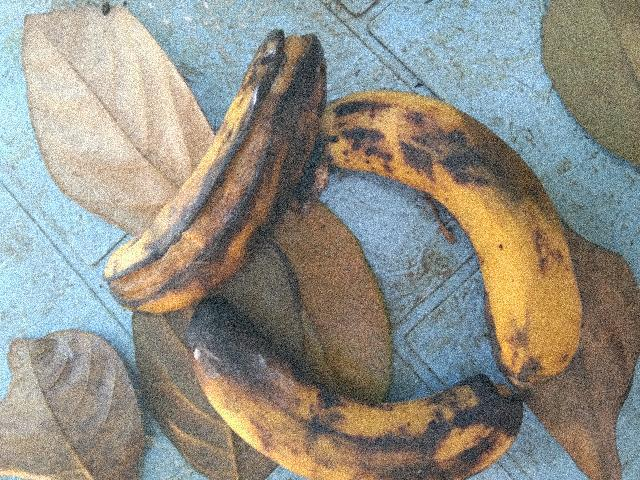overripe: (326, 71, 595, 381), (163, 324, 546, 479)
rotten: (98, 24, 334, 318)
